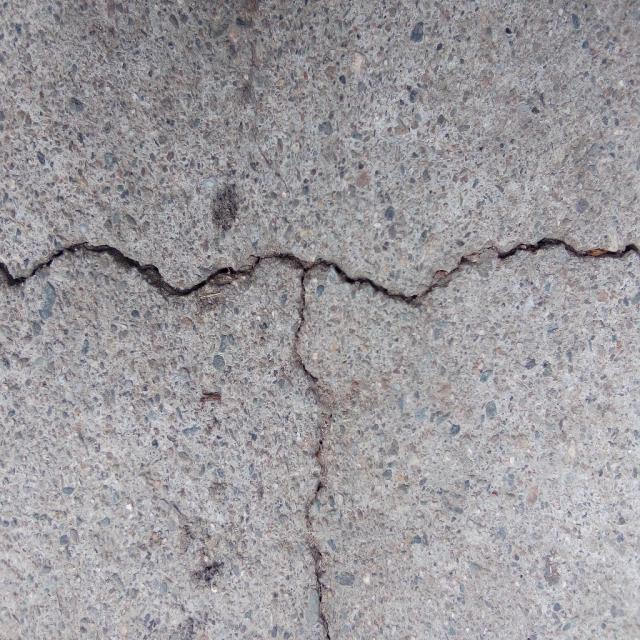cracks: (0, 211, 639, 640)
